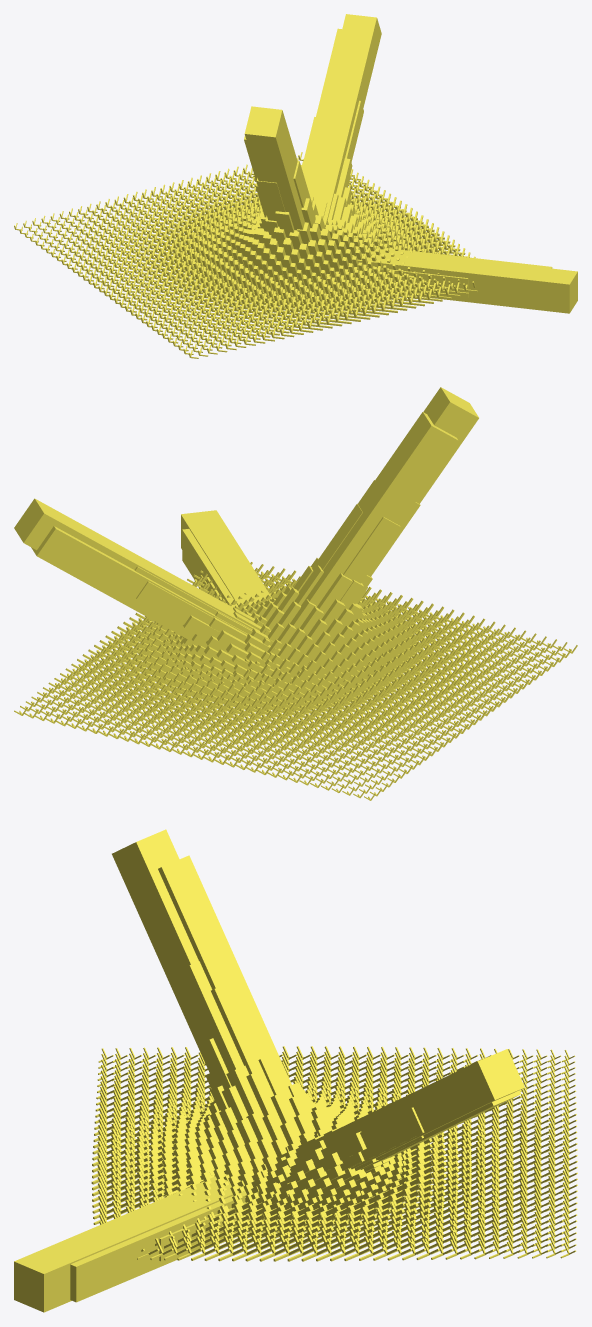
Rendered from Elements_ElementInstance.glb.
3 views of the same model, one above another, from view 1: azimuth 30°, elevation 25°; view 2: azimuth 150°, elevation 25°; view 3: azimuth 270°, elevation 25° (orthographic). The views are drawn at different scales.
Visible parts, largest first — view 1: aba35016-41af-4c15-a100-0c19a6a711a1_mesh (×7); view 2: aba35016-41af-4c15-a100-0c19a6a711a1_mesh (×11); view 3: aba35016-41af-4c15-a100-0c19a6a711a1_mesh (×15).
Part boxes in pixels (bbox=[...]): aba35016-41af-4c15-a100-0c19a6a711a1_mesh (×7): bbox=[244, 14, 577, 313]; aba35016-41af-4c15-a100-0c19a6a711a1_mesh (×11): bbox=[14, 387, 478, 648]; aba35016-41af-4c15-a100-0c19a6a711a1_mesh (×15): bbox=[14, 829, 524, 1312].
Size of the model in its own units: 60.14 by 35.73 by 60.39.
